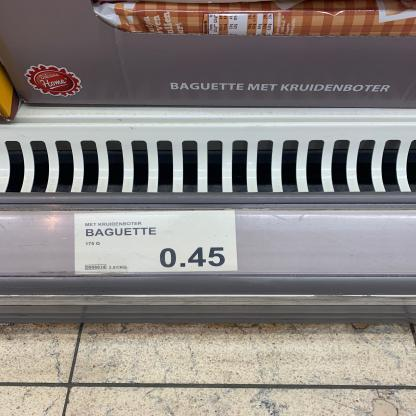prtg: (75, 211, 239, 276)
